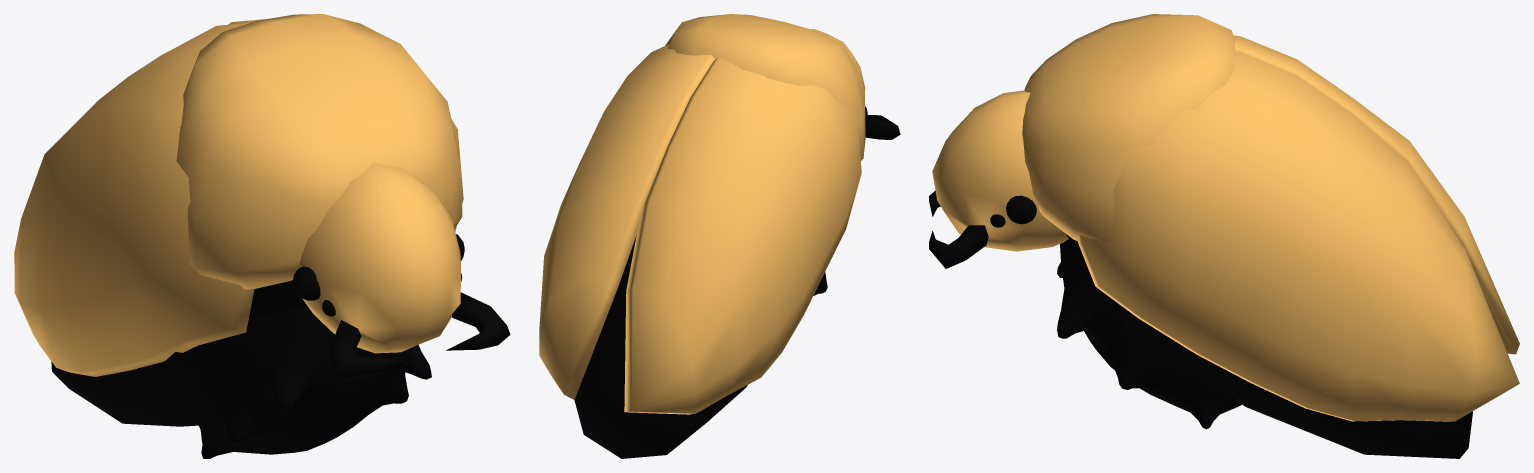
Rendered from Scarab Yellow.fbx.
The picture shows the model from 3 angles, left to right: view 1: azimuth 30°, elevation 25°; view 2: azimuth 150°, elevation 25°; view 3: azimuth 270°, elevation 25°; orthographic projection. The views are drawn at different scales.
Visible parts, largest first — view 1: Cube.003, Plane.001, Cube.001, Cube.002, Cube, Cube.005; view 2: Plane.001, Plane, Cube.003, Cube, Cube.001; view 3: Plane, Cube.003, Cube.001, Cube.002, Cube, Plane.001, Cube.005.
Part boxes in pixels (box(x1,y1,x2,y2)): Cube.003: box(176, 14, 462, 289); Plane.001: box(14, 22, 254, 376); Cube.001: box(297, 162, 510, 382); Cube.002: box(185, 305, 431, 458); Cube: box(51, 280, 306, 426); Cube.005: box(292, 234, 464, 300); Plane.001: box(624, 57, 861, 414); Plane: box(539, 45, 714, 399); Cube.003: box(665, 14, 865, 160); Cube: box(574, 235, 747, 458); Cube.001: box(810, 28, 900, 139); Plane: box(1078, 51, 1519, 421); Cube.003: box(1022, 14, 1235, 242); Cube.001: box(929, 90, 1068, 268); Cube.002: box(1057, 239, 1241, 429); Cube: box(1066, 234, 1472, 458); Plane.001: box(1233, 35, 1519, 354); Cube.005: box(1006, 195, 1036, 224).
Size of the model in its own units: 210 by 113 by 163.
